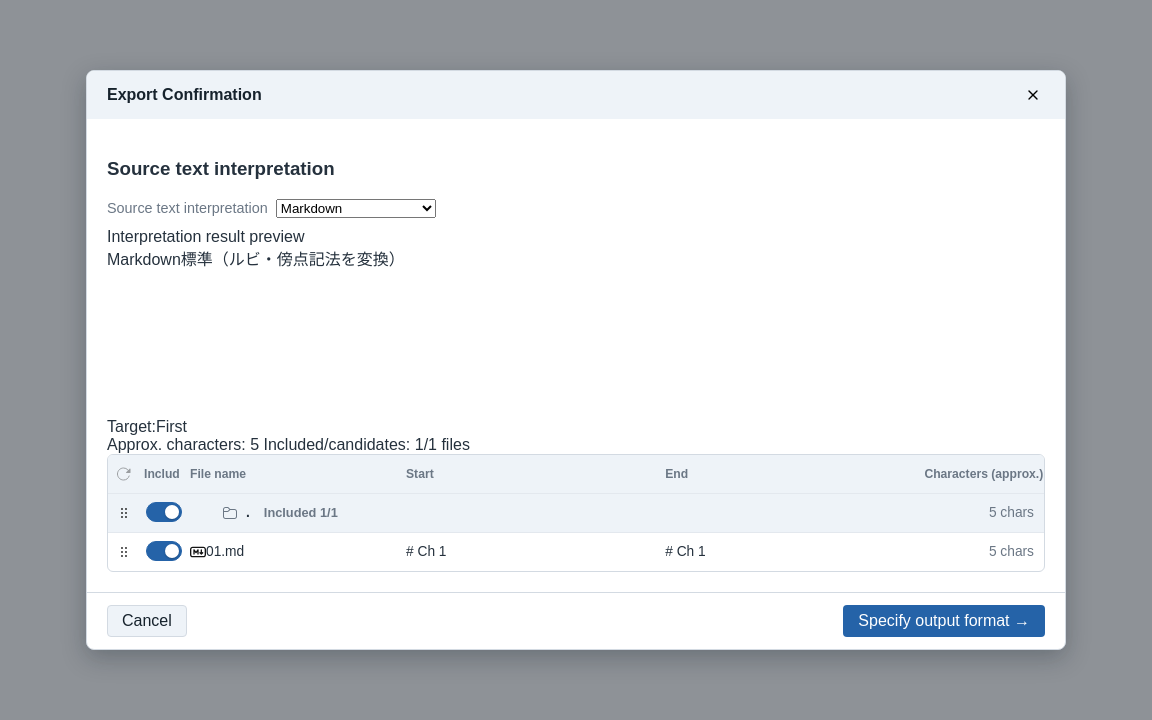
Scenario: ExportConfirmationDialog (#523) › opens FontPickerDialog for PDF font candidate selection and preserves font section when switching formats (#523 Slice 9 follow-up & Slice 10)
Click the button "Specify output format →" at (944, 621), box [843,605,1045,637]
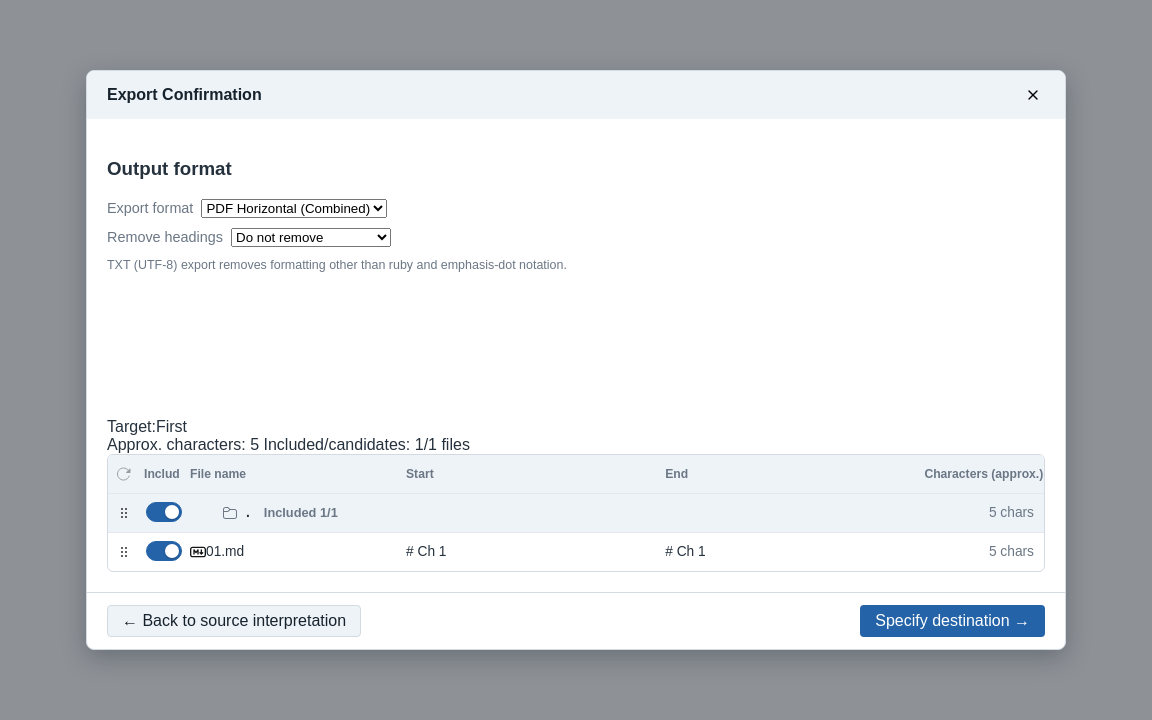
Select "PDF Horizontal (Combined)" in the dropdown labelled "Export format" at (294, 208), box [201,199,387,218]
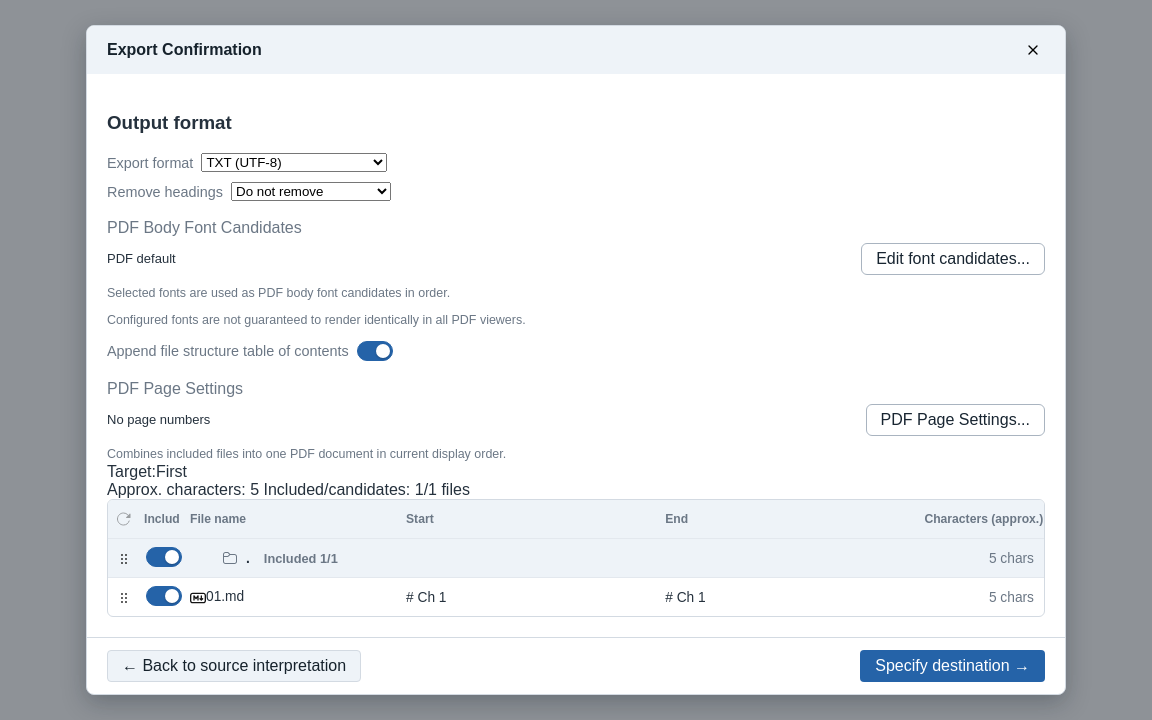
Result: the button "Edit font candidates..." is shown at [861,243,1045,275]
Select "TXT (UTF-8)" in the dropdown labelled "Export format" at (294, 162), box [201,153,387,172]
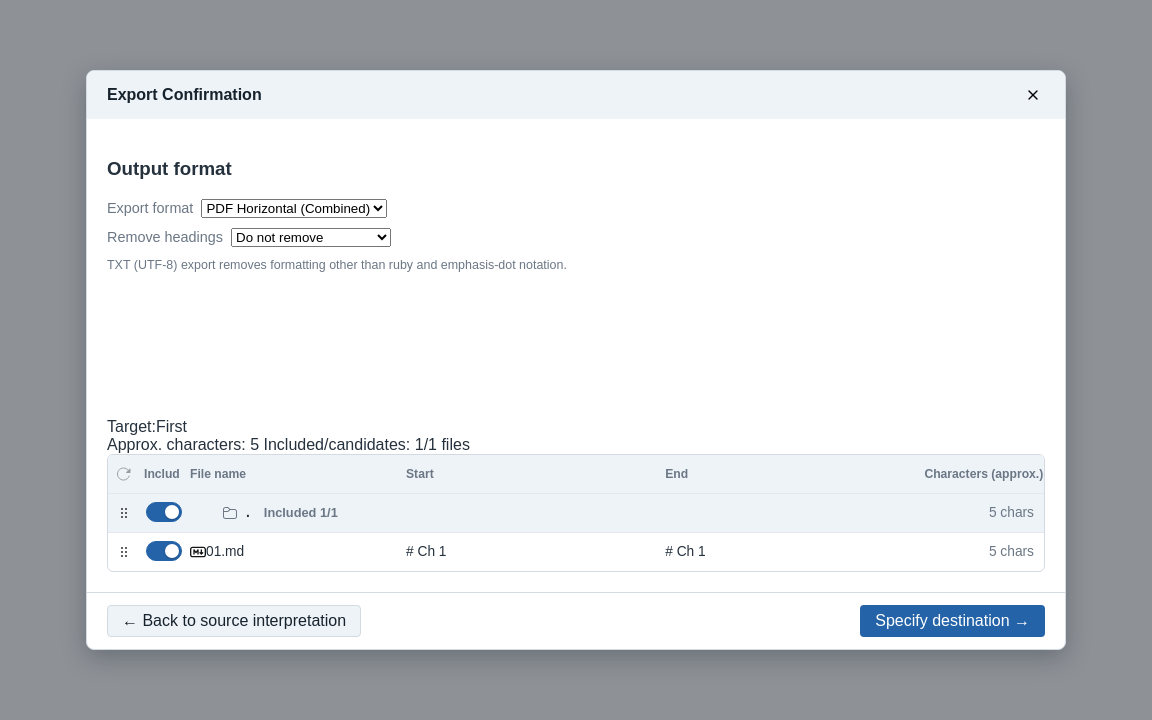
Select "PDF Horizontal (Combined)" in the dropdown labelled "Export format" at (294, 208), box [201,199,387,218]
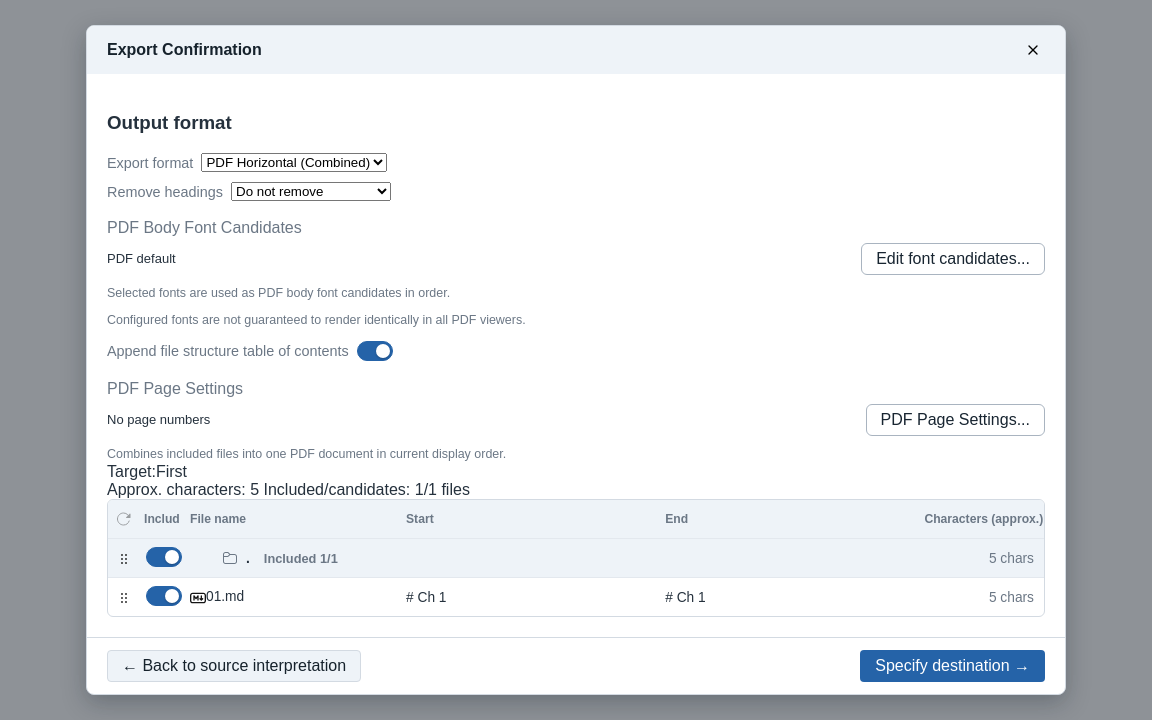
Result: the button "Edit font candidates..." is shown at [861,243,1045,275]
